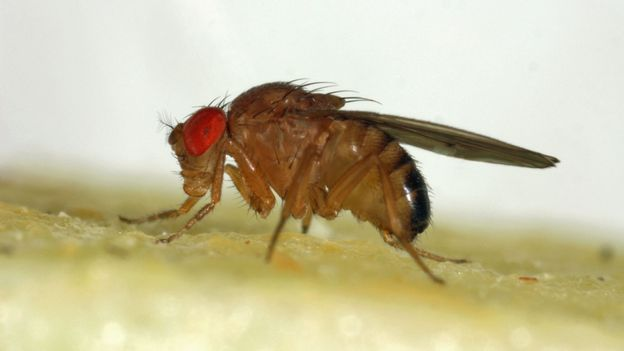Fruit fly: (144, 58, 501, 287)
